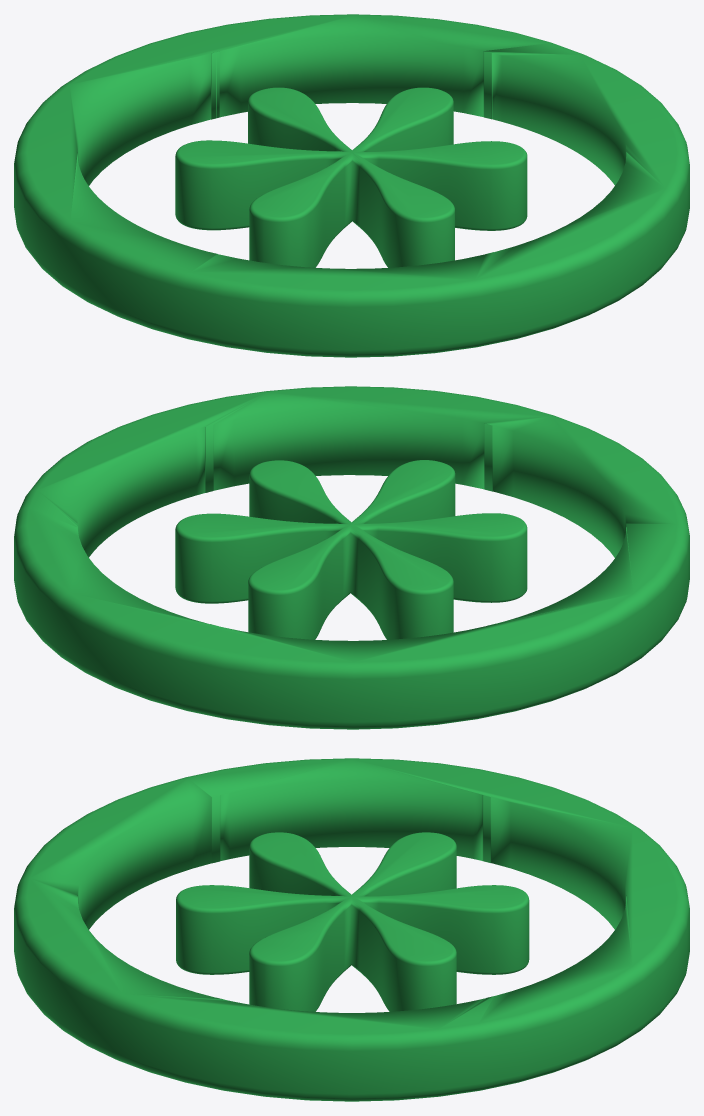
The model's file is bague.glb.
3 renders of one model, top to bottom at view 1: azimuth 30°, elevation 25°; view 2: azimuth 150°, elevation 25°; view 3: azimuth 270°, elevation 25°, orthographic.
Parts seen in each view (by area): view 1: Curve.001; view 2: Curve.001; view 3: Curve.001.
Part boxes in pixels (x1=…): Curve.001: x1=14, y1=14, x2=689, y2=357; Curve.001: x1=14, y1=386, x2=689, y2=729; Curve.001: x1=14, y1=758, x2=689, y2=1101.
Bounding box in the file's own units: 0.3962 × 0.0428 × 0.3962.
